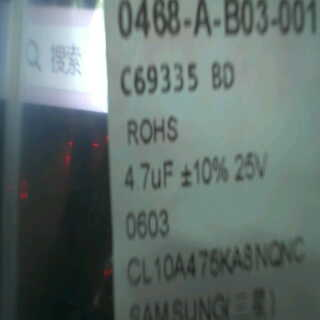4.7uF: (121, 156, 176, 197)
